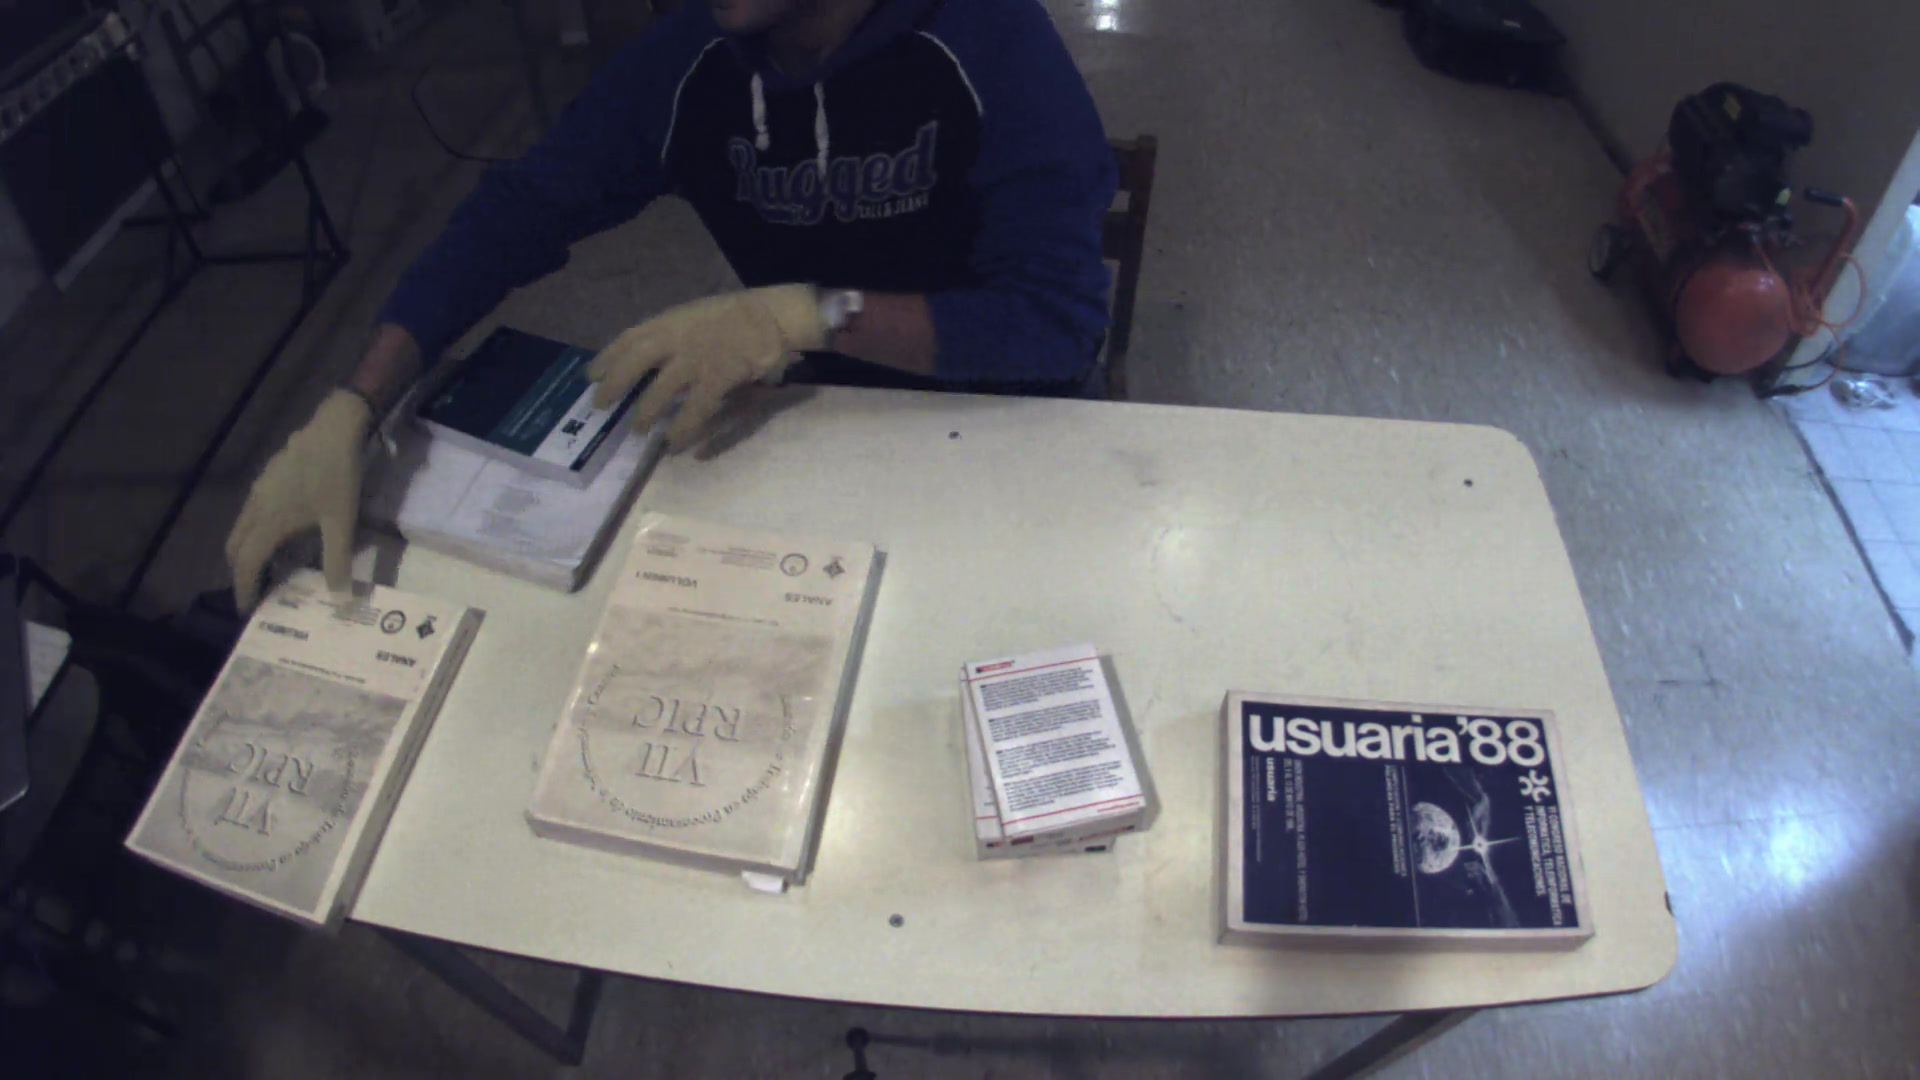hand: (564, 266, 831, 465), (210, 386, 389, 613)
